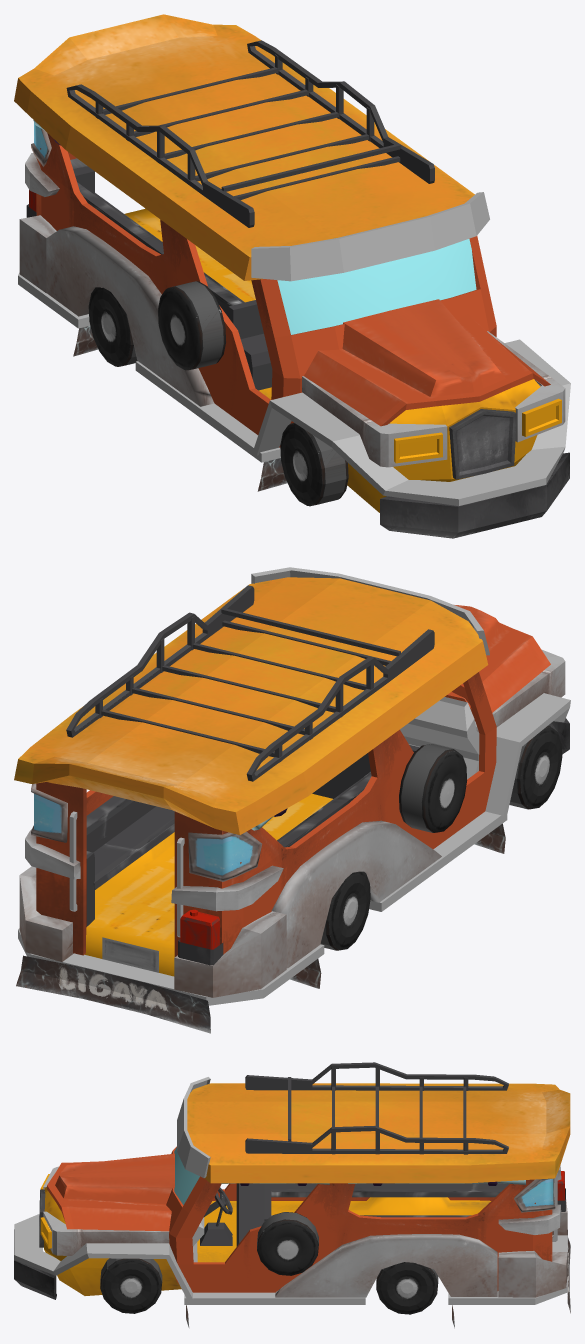
File: jeepneyv3.fbx
3 views of the same model, one above another, from view 1: azimuth 30°, elevation 25°; view 2: azimuth 150°, elevation 25°; view 3: azimuth 270°, elevation 25° (orthographic). The views are drawn at different scales.
Visible parts, largest first — view 1: JEEP BODY, TIRES; view 2: JEEP BODY, TIRES; view 3: JEEP BODY, TIRES.
Part boxes in pixels (x1,y1,x2,y2): JEEP BODY: (14,14,570,538); TIRES: (88,287,348,506); JEEP BODY: (14,567,570,1033); TIRES: (320,725,562,950); JEEP BODY: (14,1062,570,1328); TIRES: (100,1258,438,1314).
Bounding box in the file's own units: 413 × 380 × 1012.
